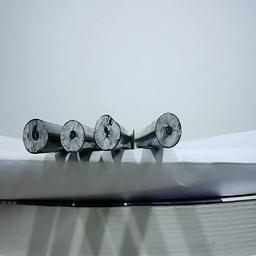pen: (21, 119, 47, 153), (154, 112, 180, 146), (93, 115, 119, 149), (59, 118, 85, 152)
